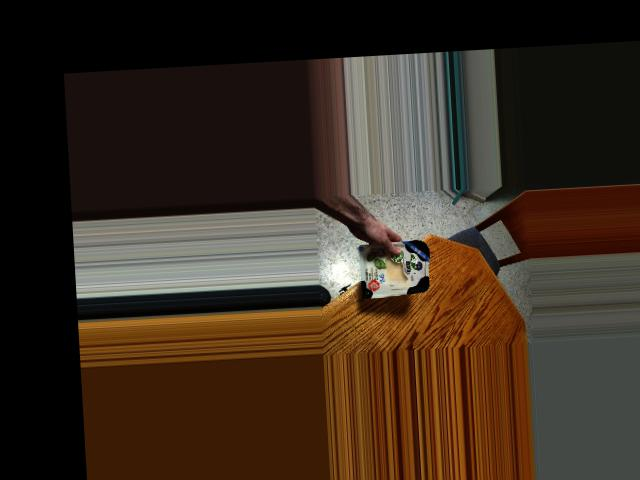cheese: (342, 236, 447, 299)
